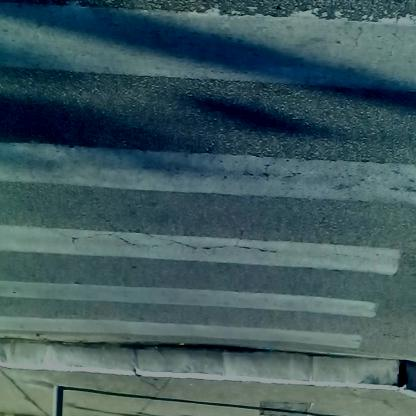crosswalk: (3, 6, 416, 337)
sidewalk: (2, 344, 416, 413)
